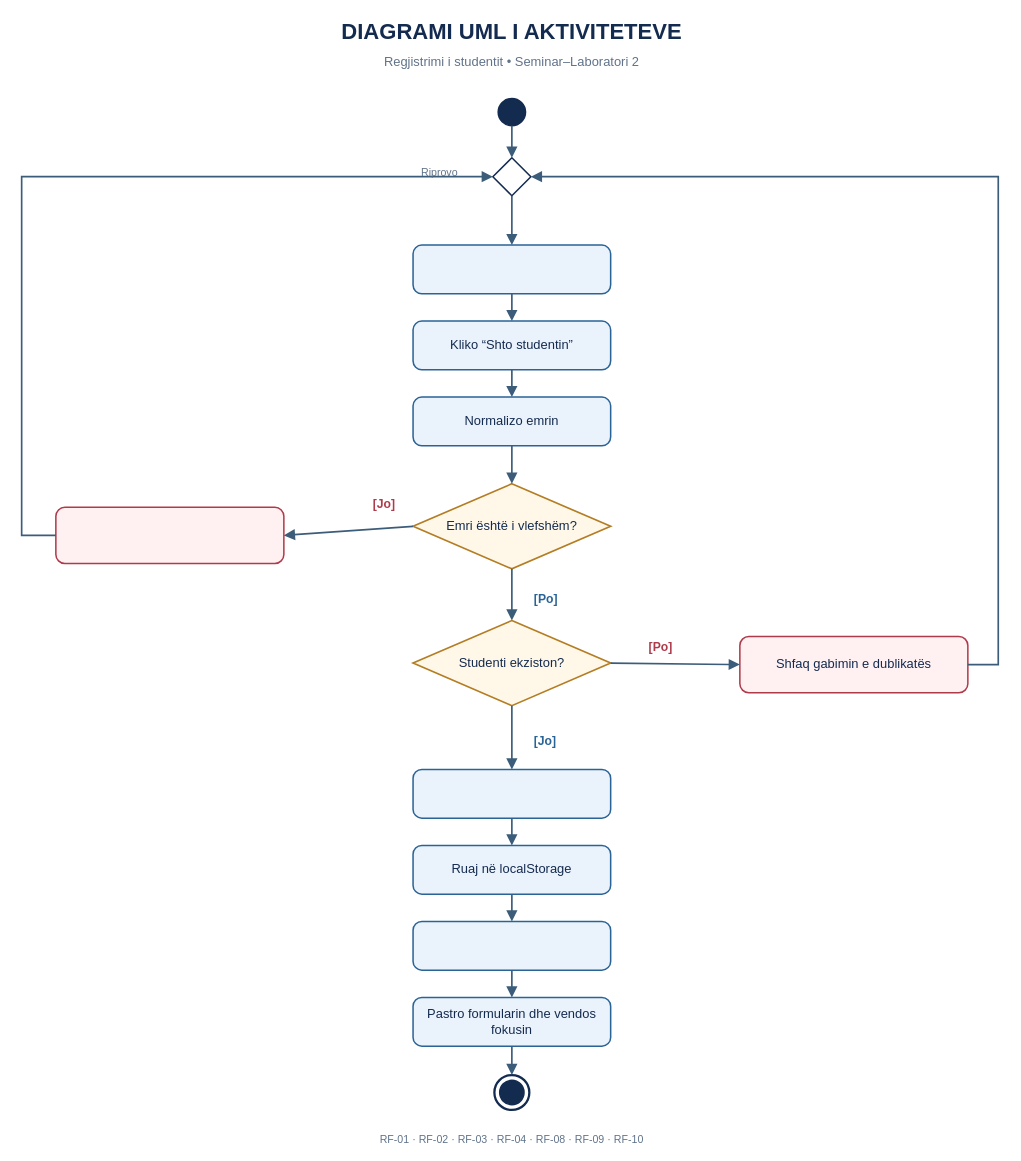
This 1021x1161 diagram has some shape labels left out. Here are the shapes that lost their labels. From the top down, the box of each, then its label:
(412, 244, 611, 294): Shkruaj emrin e studentit
(55, 506, 284, 564): Shfaq mesazhin e gabimit
(412, 768, 611, 819): Shto studentin në listë
(412, 920, 611, 971): Përditëso listën dhe numrin
